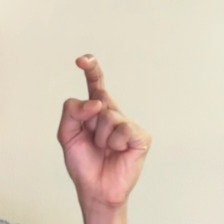X: (45, 44, 164, 210)
